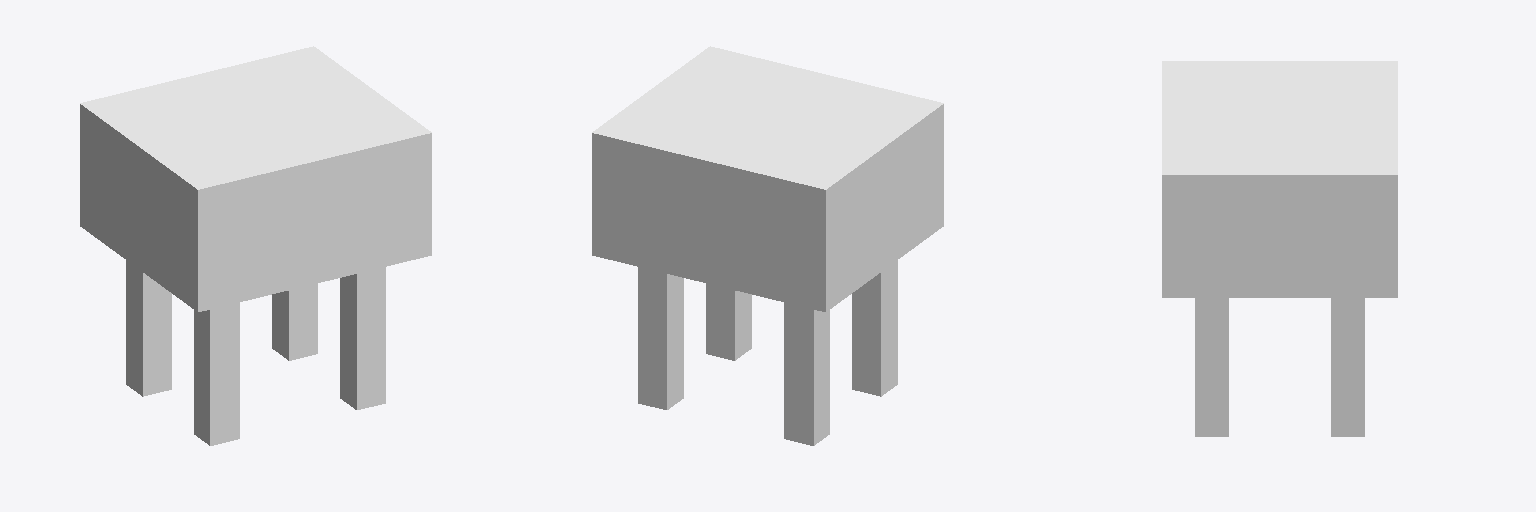
File: CarnivalTable.obj
3 renders of one model, left to right at view 1: azimuth 30°, elevation 25°; view 2: azimuth 150°, elevation 25°; view 3: azimuth 270°, elevation 25°, orthographic.
Visible parts, largest first — view 1: CarnivalTable; view 2: CarnivalTable; view 3: CarnivalTable.
Boxes of the visible parts, box(x1,y1,x2,y2) form: CarnivalTable: box(80, 46, 431, 445); CarnivalTable: box(592, 46, 943, 445); CarnivalTable: box(1162, 61, 1397, 436).
Size of the model in its own units: 8 by 9 by 7.